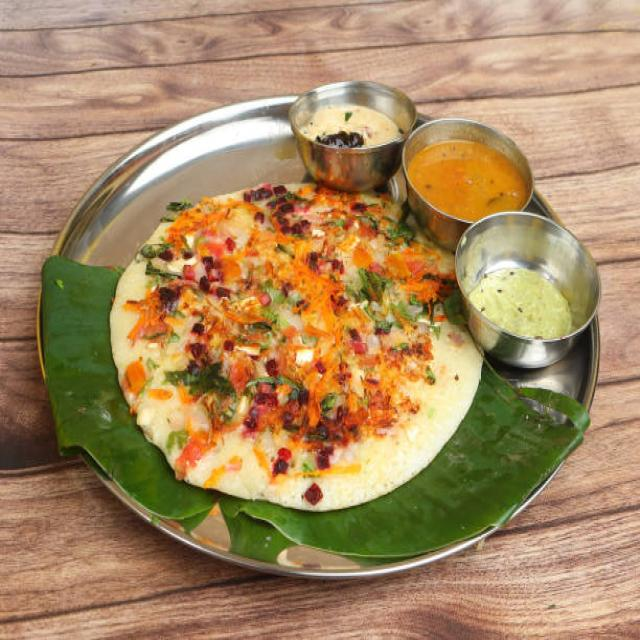DOSA: (111, 180, 485, 515)
SAMBAR: (409, 137, 528, 221)
WHITE CHUTNEY: (467, 263, 574, 344), (303, 101, 404, 150)
